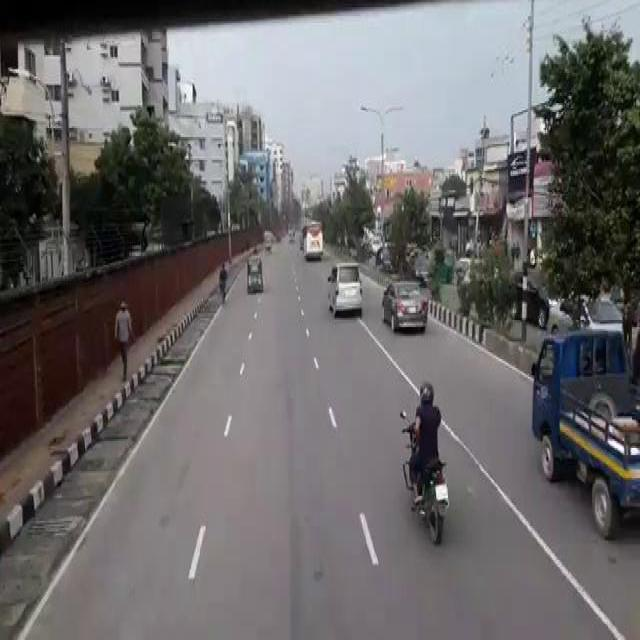10: (399, 408, 449, 545)
11: (530, 322, 638, 535)
17: (434, 245, 454, 281), (244, 252, 262, 292)
5: (546, 288, 624, 334), (380, 279, 436, 343), (506, 266, 550, 324)
9: (325, 259, 363, 310)
Truck: (301, 219, 323, 254)
